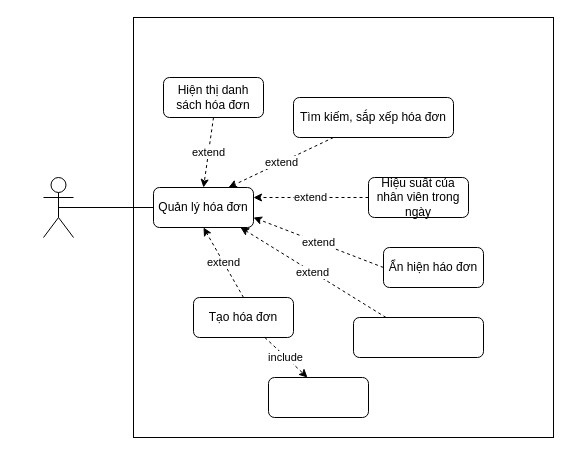
The diagram is 571 pixels wide and 455 high, and some of its shapes have lost their labels. The box of each missing label's shape, as (x1, y1, x2, y2) in pixels:
In hóa đơn: (268, 376, 368, 418)
Nhân bán hàng: (42, 176, 74, 238)
Sửa thông tin hóa đơn: (352, 316, 484, 358)
